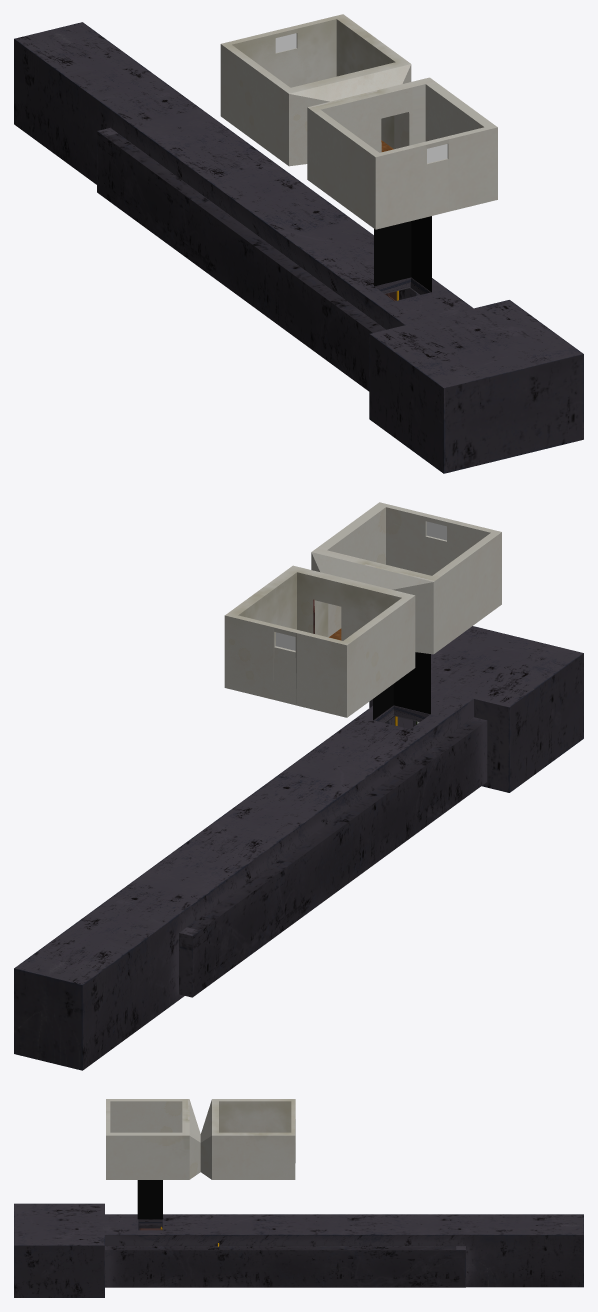
File: Corridor_forEnding (2).fbx
3 views of the same model, one above another, from view 1: azimuth 30°, elevation 25°; view 2: azimuth 150°, elevation 25°; view 3: azimuth 270°, elevation 25° (orthographic). The views are drawn at different scales.
Parts seen in each view (by area): view 1: corridor, house2, house; view 2: corridor, house, house2; view 3: corridor, house2, house.
Part boxes in pixels (x1,y1,x2,y2): corridor: (14, 22, 583, 473); house2: (307, 77, 497, 292); house: (220, 14, 411, 166); corridor: (14, 626, 583, 1070); house: (224, 565, 415, 717); house2: (311, 502, 501, 720); corridor: (14, 1203, 583, 1297); house2: (106, 1099, 200, 1219); house: (200, 1099, 295, 1179).
Bounding box in the file's own units: 1011 × 1792 × 5818.
